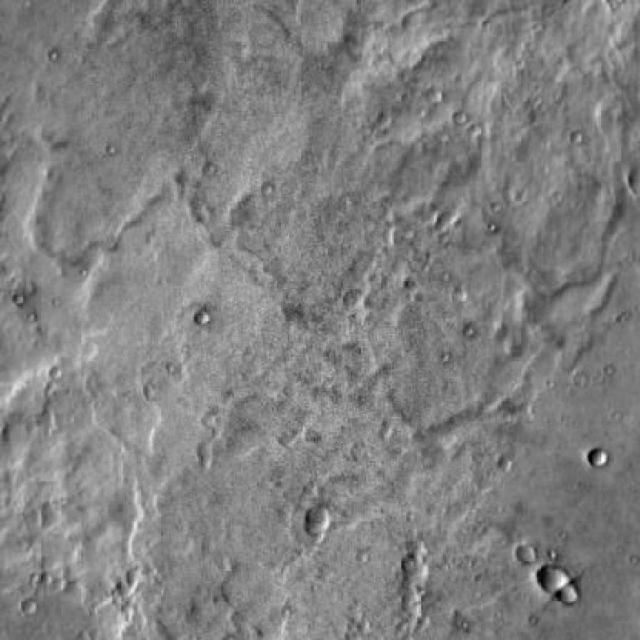crater: (540, 564, 569, 591), (303, 510, 331, 536), (591, 447, 611, 467), (520, 544, 538, 562), (563, 586, 582, 603), (194, 308, 211, 326)
